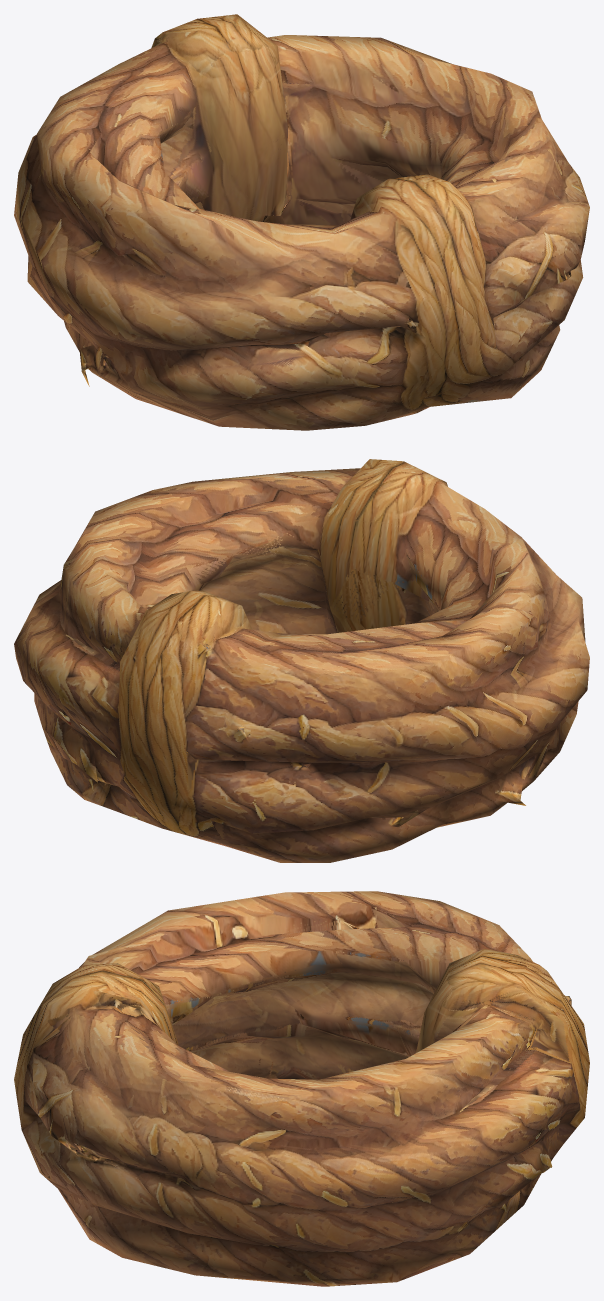
File: RopeCoil.glb
3 views of the same model, one above another, from view 1: azimuth 30°, elevation 25°; view 2: azimuth 150°, elevation 25°; view 3: azimuth 270°, elevation 25° (orthographic). The views are drawn at different scales.
Parts seen in each view (by area): view 1: texture_mapping; view 2: texture_mapping; view 3: texture_mapping.
Part boxes in pixels (x1,y1,x2,y2): texture_mapping: (14,14,589,430); texture_mapping: (14,459,589,862); texture_mapping: (14,891,589,1286).
Bounding box in the file's own units: 0.9455 × 0.4531 × 0.9861.
1 material, 1 textured.
